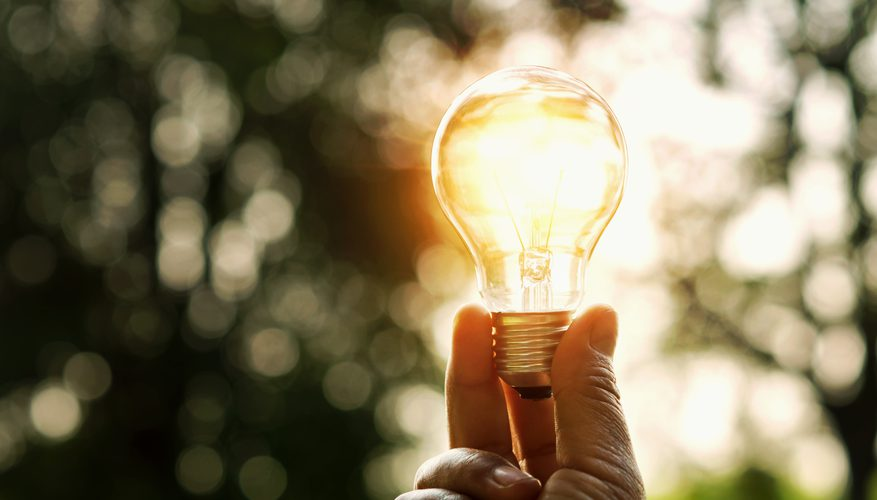Nonrec_Glass: (402, 52, 650, 405)
